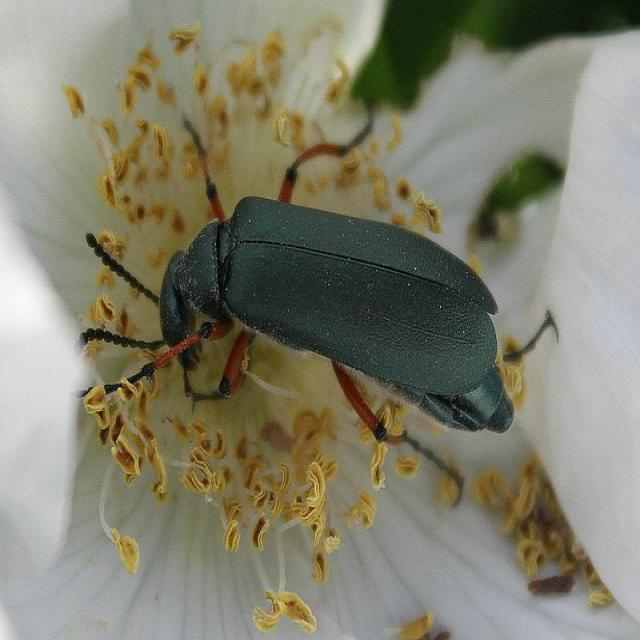BlisterBeetle-Adult-: (88, 93, 538, 481)
